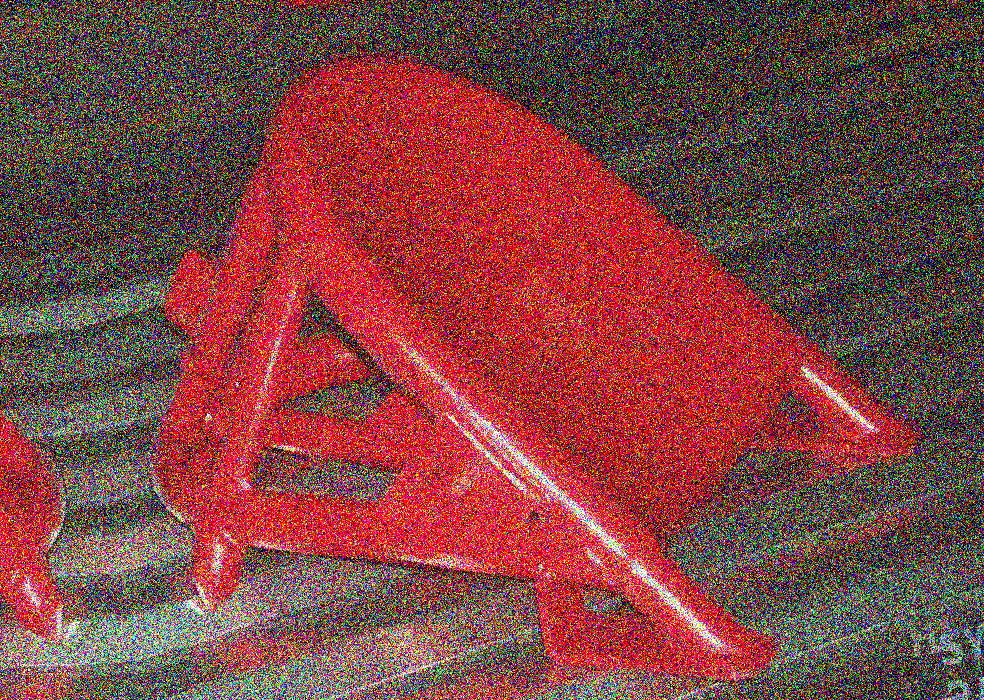chock: (51, 0, 970, 700)
